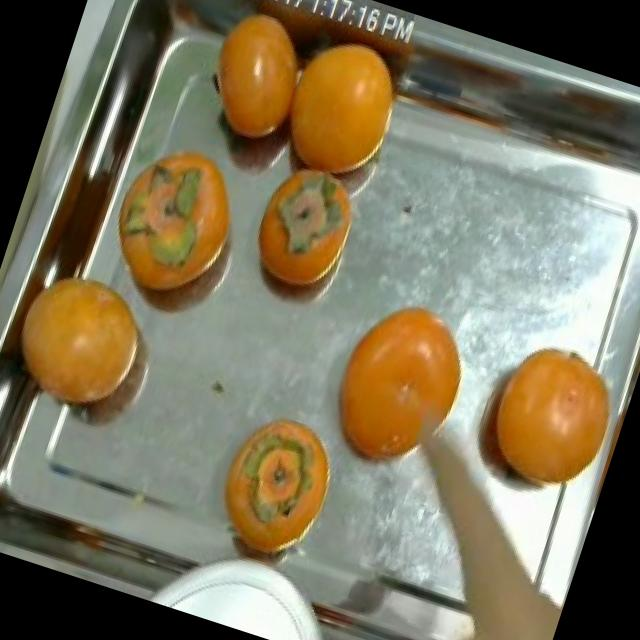Fruit: (297, 271, 498, 511), (83, 112, 277, 349), (0, 239, 193, 454), (450, 317, 635, 525), (185, 390, 364, 588), (255, 12, 420, 206), (222, 145, 370, 328), (180, 0, 336, 167)
